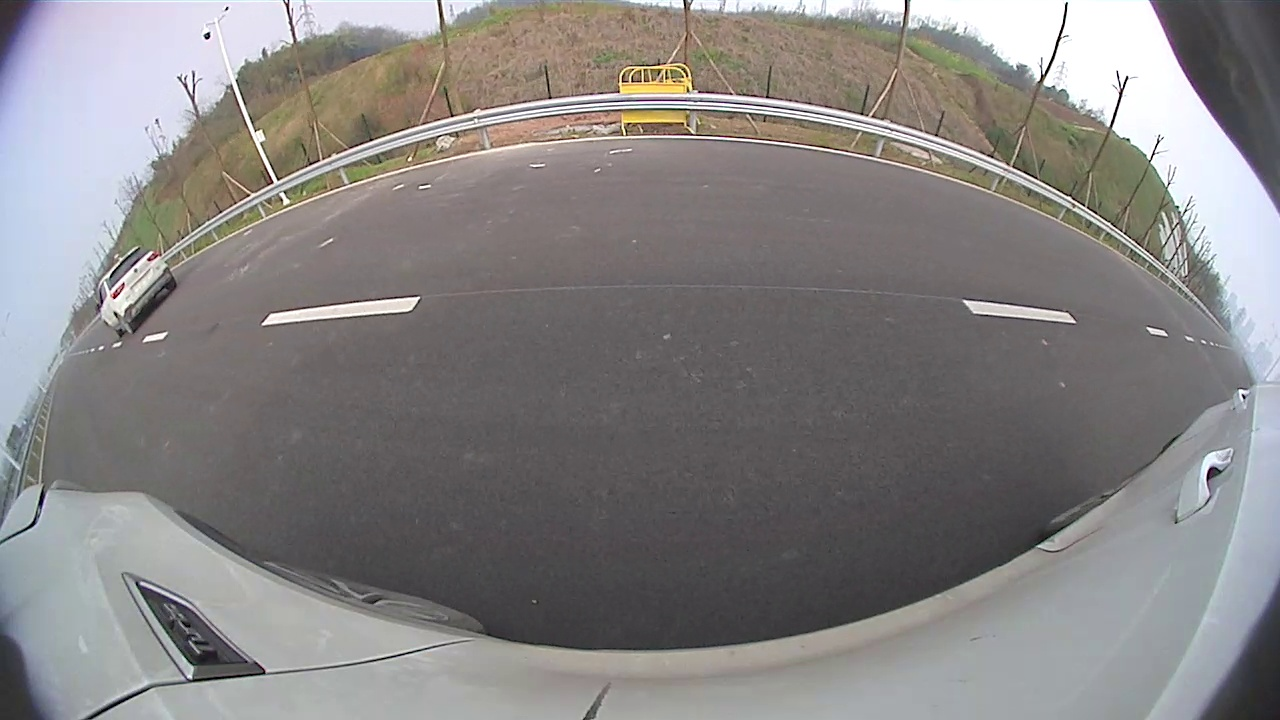car: (115, 119, 340, 286)
front: (194, 216, 238, 270)
rear: (128, 250, 159, 287)
